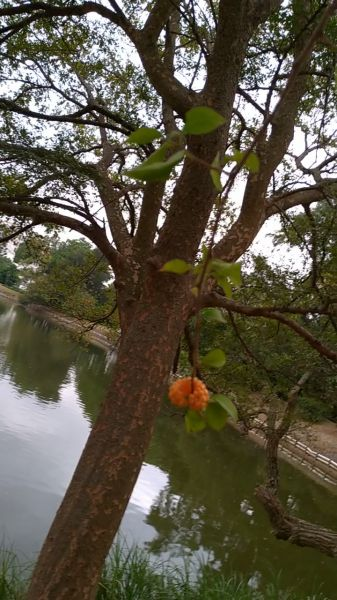eggs: (164, 373, 211, 419)
